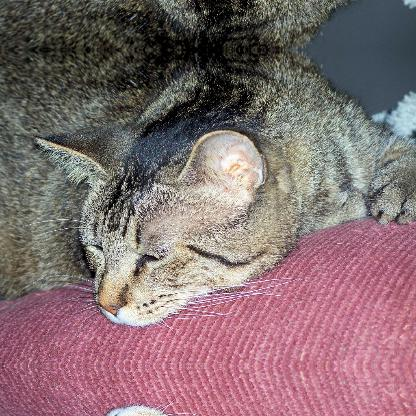Cat: (1, 49, 415, 337)
